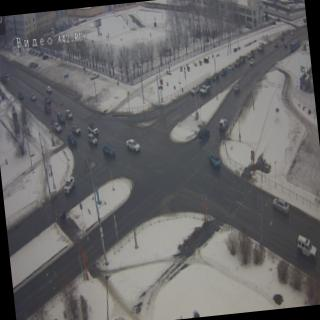large-vehicle: (198, 83, 211, 97), (256, 41, 266, 54), (0, 71, 7, 85)
small-vehicle: (294, 235, 318, 262), (270, 195, 290, 217), (208, 151, 221, 170), (126, 137, 140, 154), (62, 176, 76, 193), (102, 142, 115, 160), (88, 121, 100, 138), (66, 130, 78, 146), (86, 132, 98, 148), (198, 126, 210, 140), (218, 117, 228, 132), (71, 122, 81, 136), (55, 112, 65, 125), (89, 68, 99, 81), (64, 108, 74, 120), (52, 120, 62, 132), (190, 82, 199, 94), (232, 56, 242, 66), (211, 71, 220, 81), (44, 92, 50, 106), (44, 81, 51, 93), (226, 60, 234, 70), (244, 50, 252, 60), (233, 83, 240, 93), (248, 56, 255, 66), (29, 92, 36, 102), (44, 103, 50, 114), (203, 76, 211, 84), (18, 90, 24, 100), (222, 66, 228, 76), (32, 60, 38, 70), (29, 48, 36, 56), (279, 34, 285, 42), (42, 53, 48, 61), (282, 42, 288, 48), (289, 29, 294, 36), (274, 40, 279, 46), (4, 72, 8, 78)
